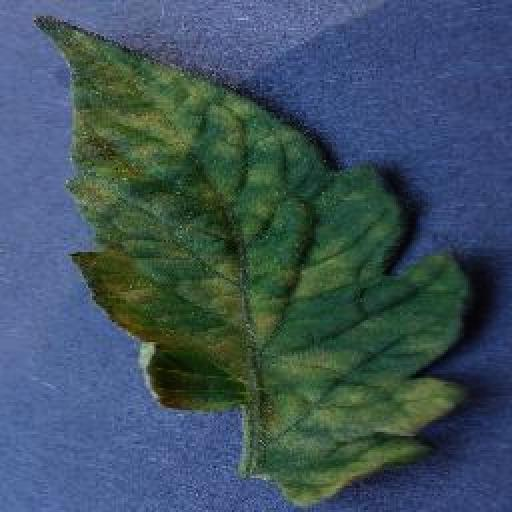disease_tomato: (40, 14, 478, 512)
